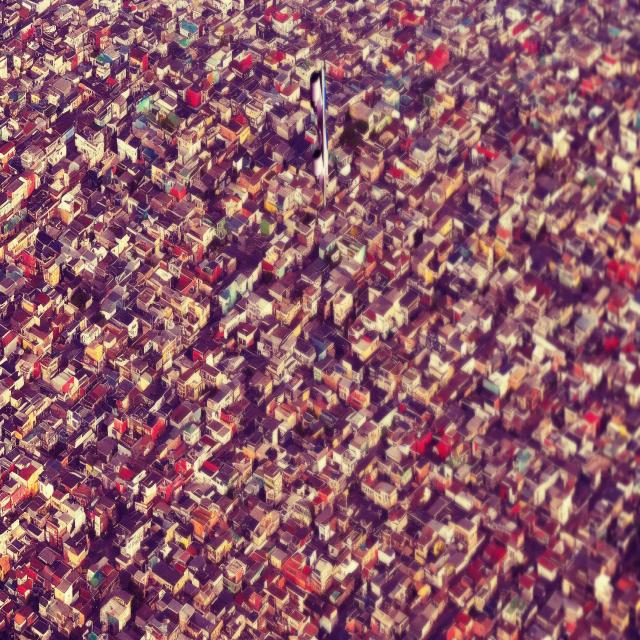airplane: (308, 65, 329, 207)
